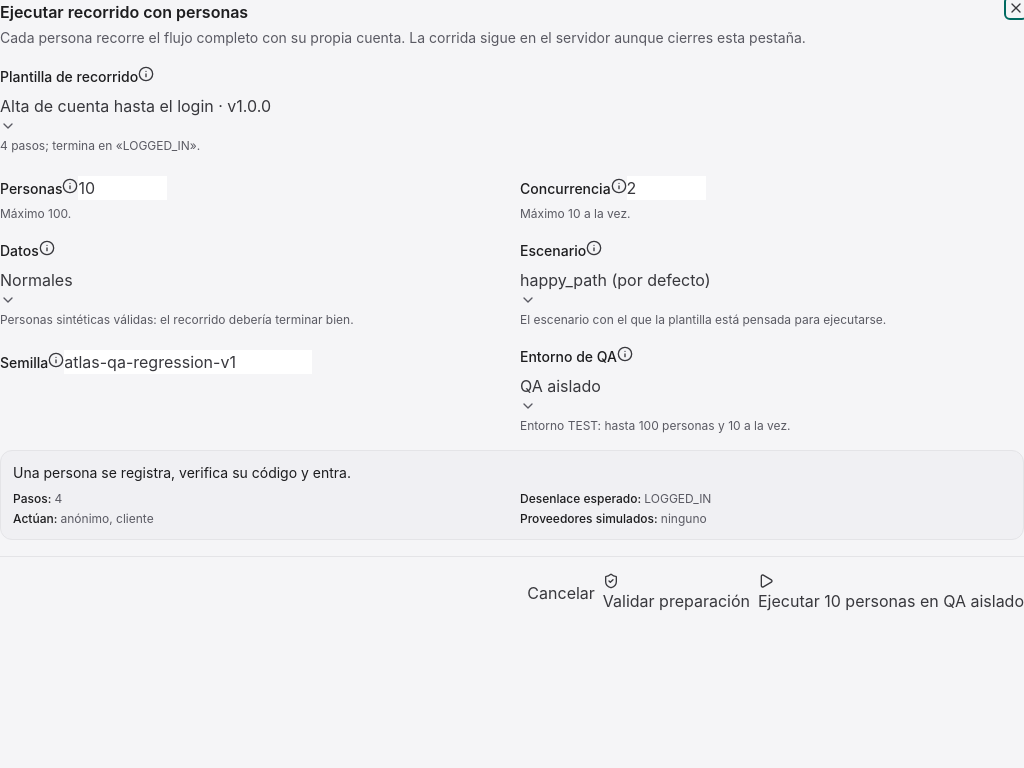
RunLaunchDialog · UI/contrato con respuestas simuladas del contrato QA › un PLAN_EXPIRED (409) se explica y, si la preparación ya no sirve, obliga a revalidar
Expected: the number field labelled "Personas" is shown, [78,176,168,200]
Step 1. Click the button "Validar preparación" → click(676, 593), box [603,573,750,613]
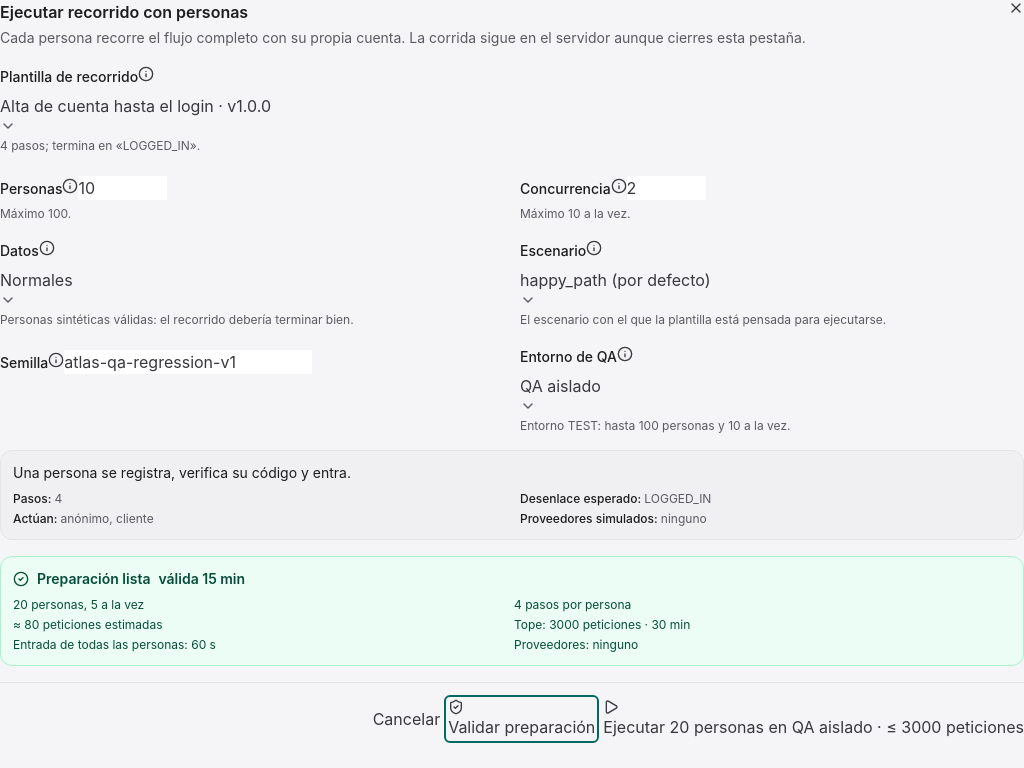
Now the text "Preparación lista" is shown, box [37,570,150,587]
Step 2. Click the button "Ejecutar 20 personas en QA aislado · ≤ 3000 peticiones" → click(814, 719), box [603,699,1023,739]
(page scrolled)
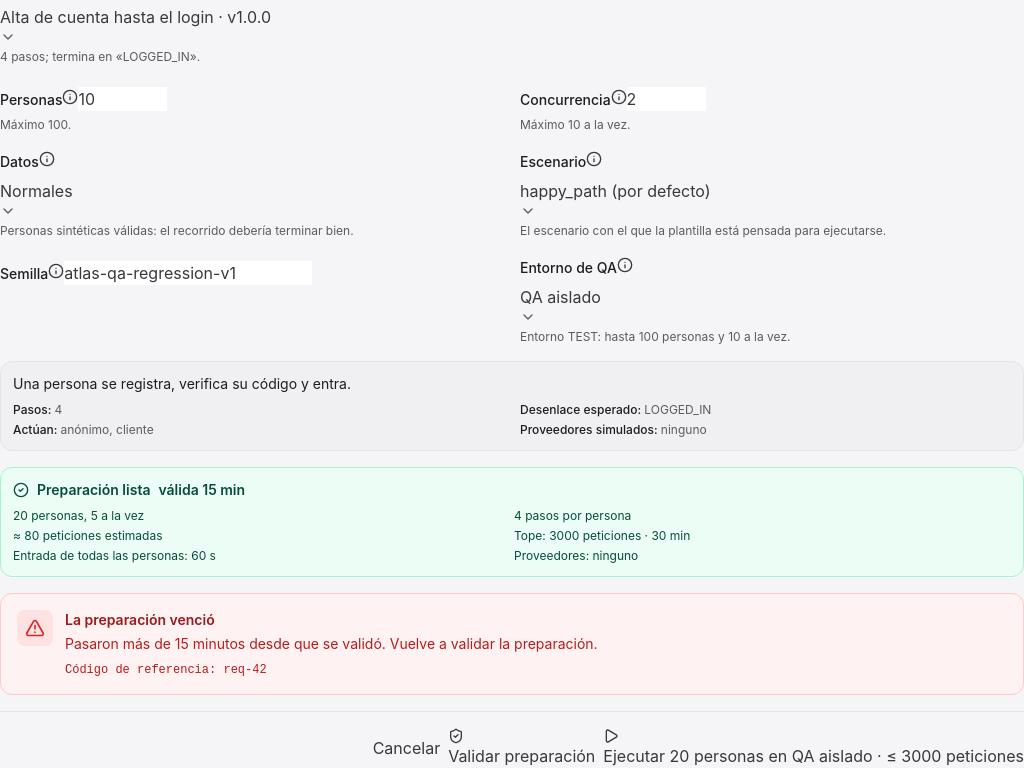
Now the heading "La preparación venció" is shown, box [65,611,215,628]
Now the text "Código de referencia: req-42" is shown, box [65,663,267,677]
Now the button "Ejecutar 20 personas en QA aislado · ≤ 3000 peticiones" is disabled, box [603,728,1023,767]
